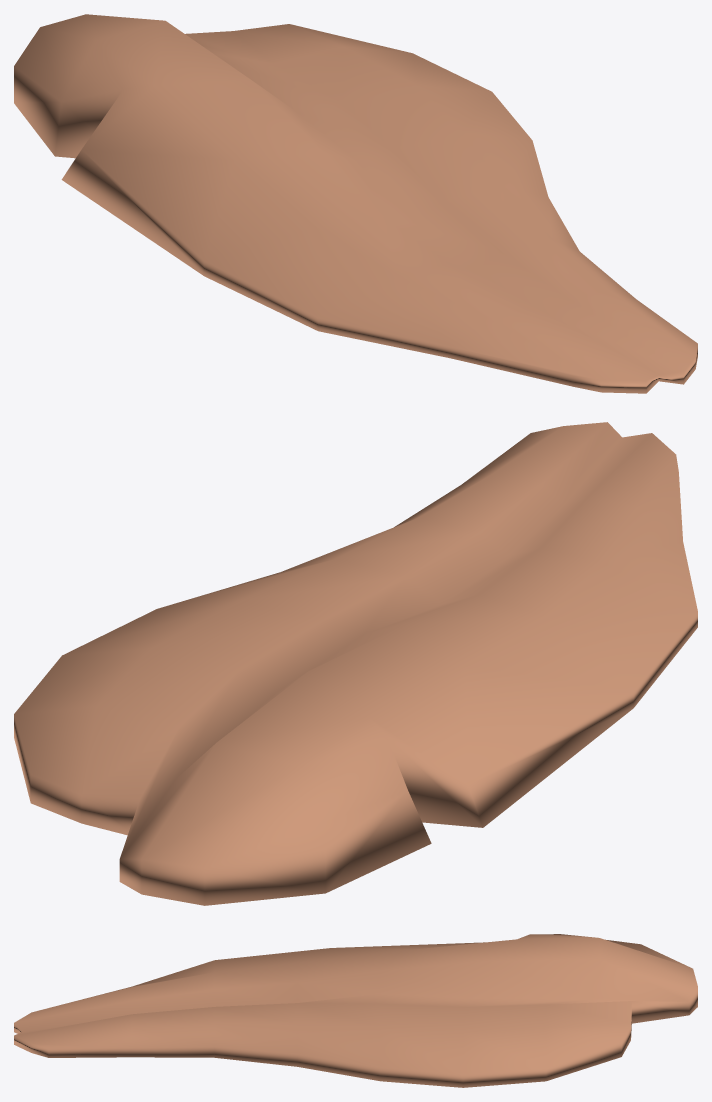
The model's file is mesh_rawfish_02.fbx.
3 renders of one model, top to bottom at view 1: azimuth 30°, elevation 25°; view 2: azimuth 150°, elevation 25°; view 3: azimuth 270°, elevation 25°, orthographic. The views are drawn at different scales.
Visible parts, largest first — view 1: mesh_rawfish_02; view 2: mesh_rawfish_02; view 3: mesh_rawfish_02.
Part boxes in pixels (x1,y1,x2,y2): mesh_rawfish_02: (14,14,697,393); mesh_rawfish_02: (14,422,697,905); mesh_rawfish_02: (14,934,697,1087).
Bounding box in the file's own units: 0.1679 × 0.0372 × 0.3667.
